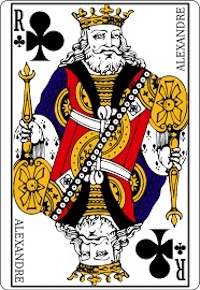KingOfClubs: (5, 1, 193, 290)
